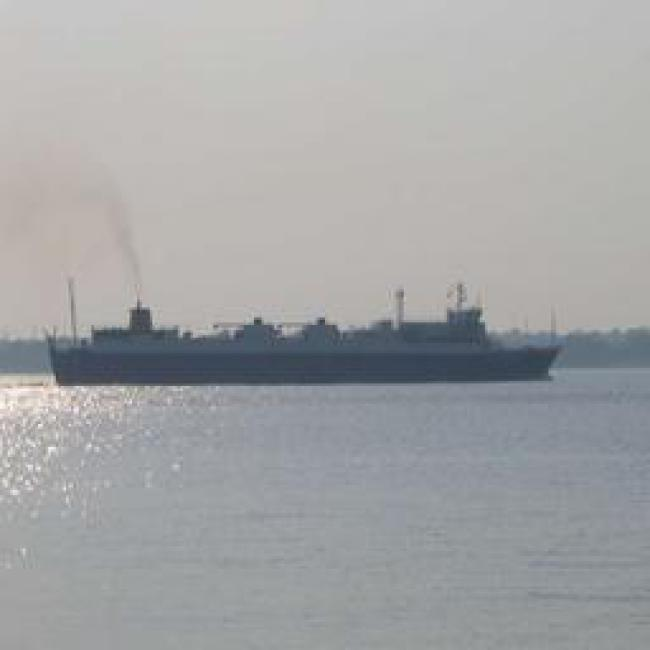Ship: (29, 281, 570, 386)
